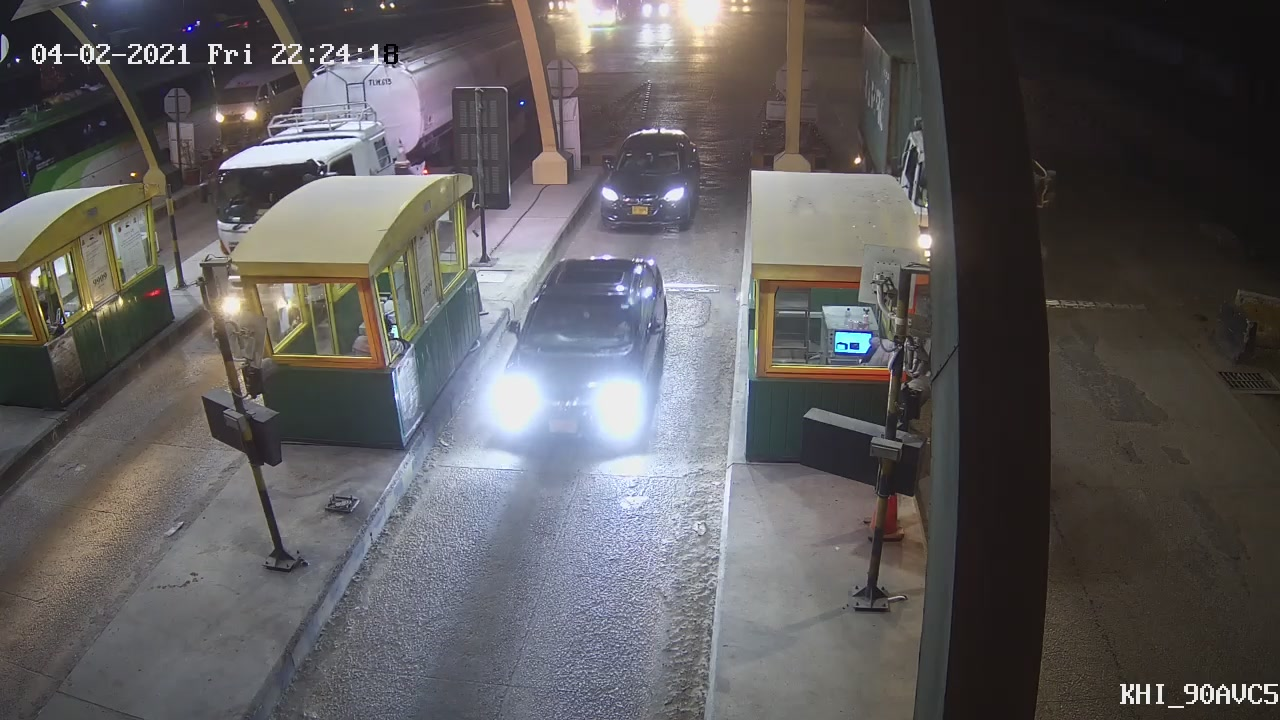F1: (489, 250, 670, 453), (593, 124, 705, 237)
